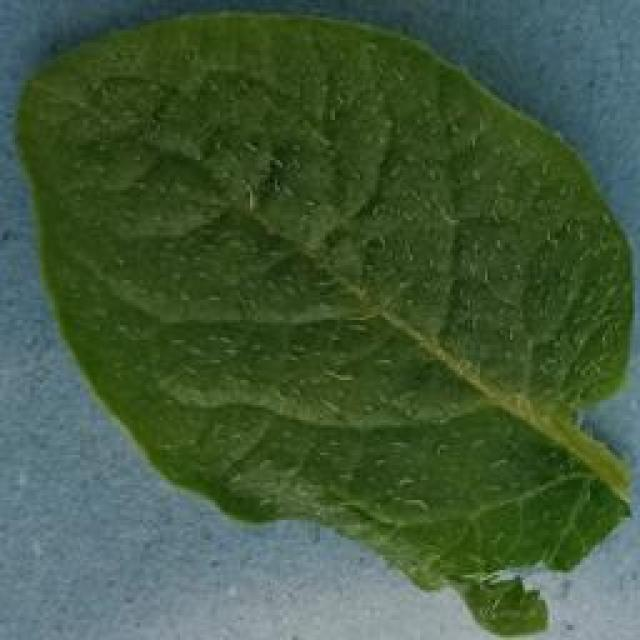Potato_Healthy: (18, 10, 630, 636)
